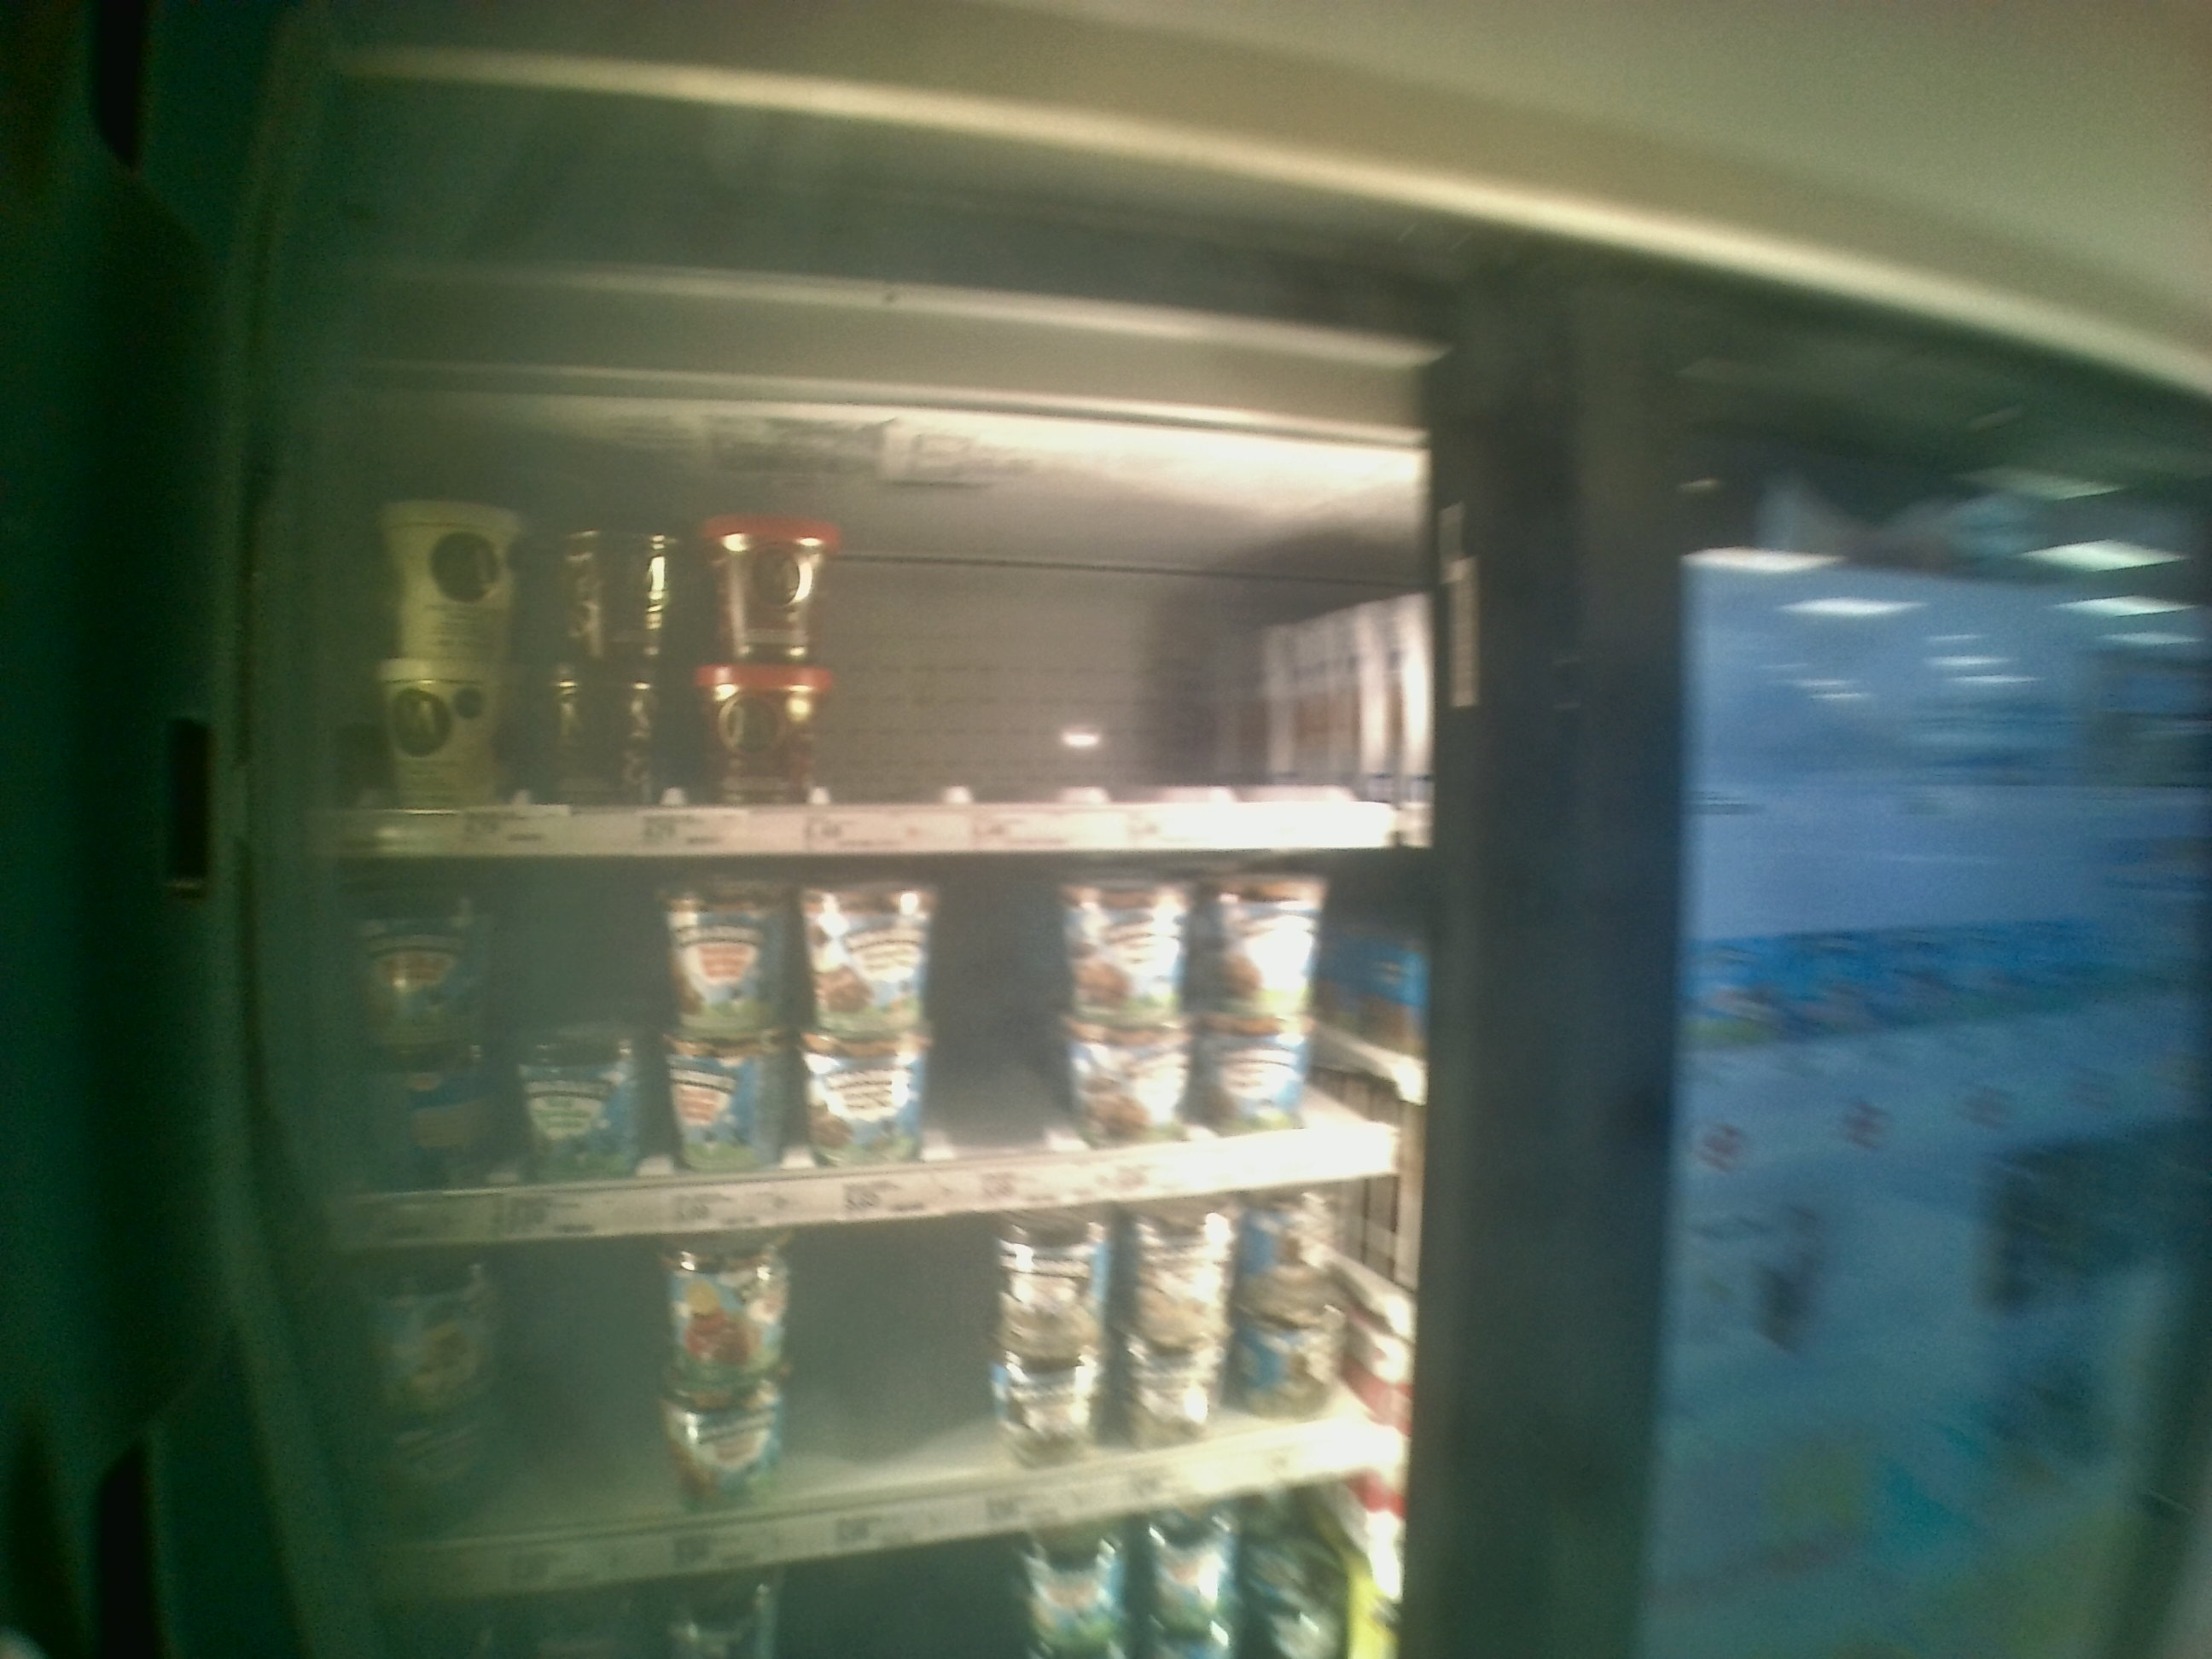shelf: (319, 362, 1423, 849), (315, 847, 1433, 1253)
